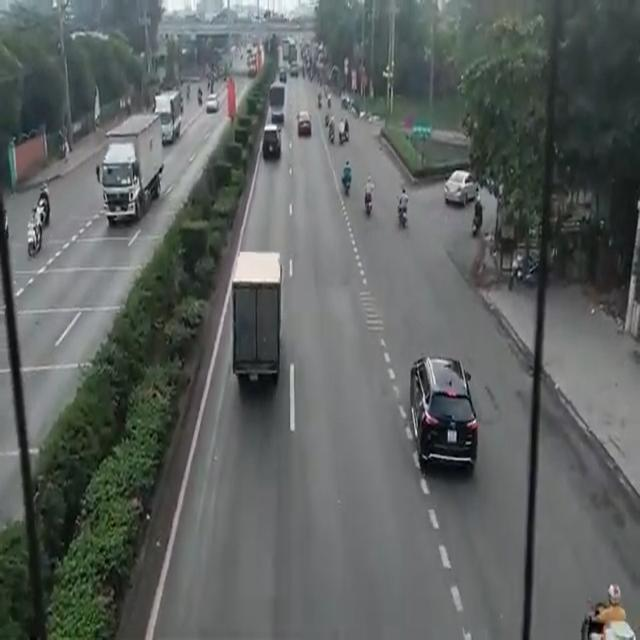car: (409, 352, 481, 467), (263, 121, 283, 162), (299, 110, 309, 138)
motor: (580, 595, 621, 640), (337, 157, 355, 206), (23, 208, 40, 256), (394, 192, 414, 232), (365, 180, 376, 231)
truck: (228, 248, 287, 404), (101, 111, 169, 227), (153, 90, 184, 141)
